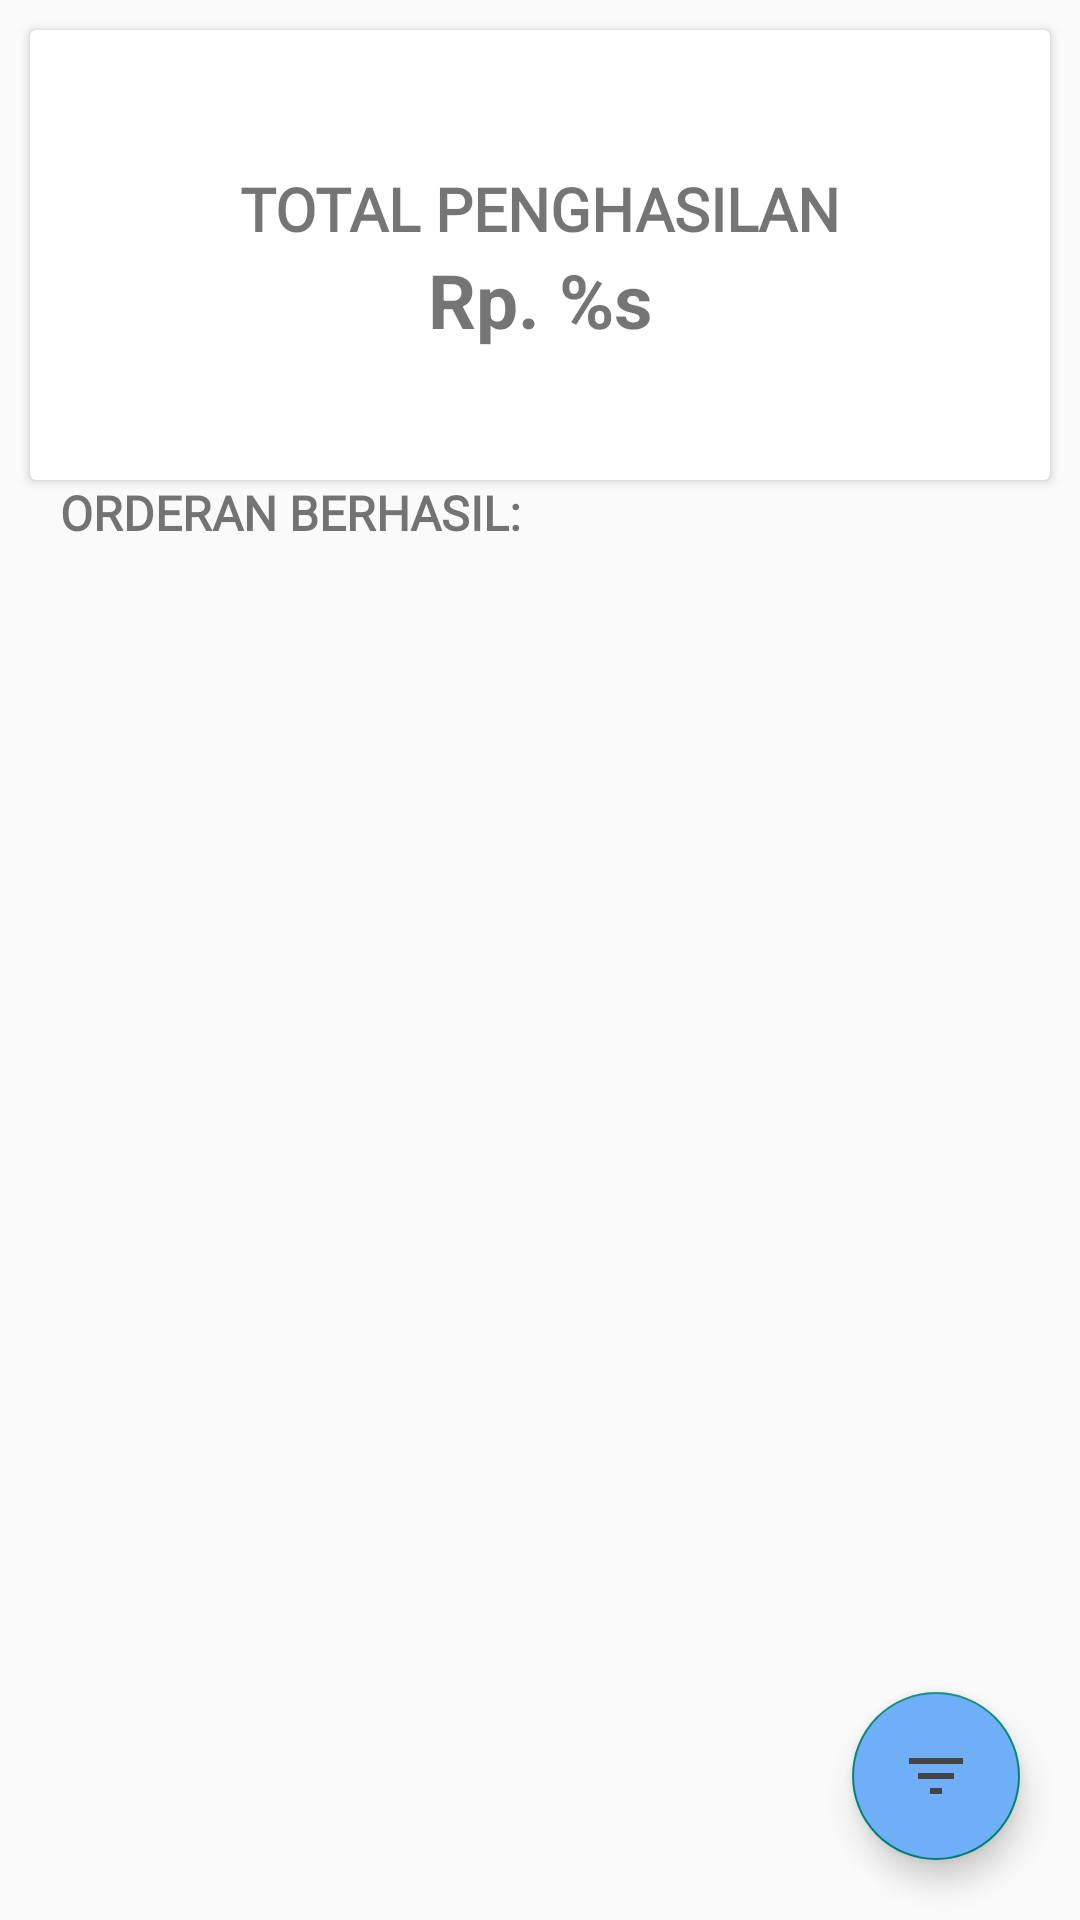

Locate icon controls on the screen. Image size 1080px×1920px, boxes as (x1, y1, x2, y2).
filter list: (852, 1692, 1020, 1860)
